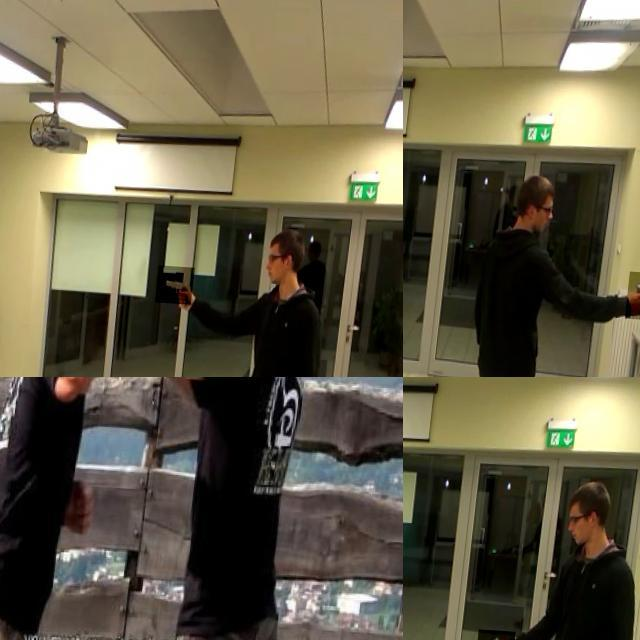-: (112, 377, 200, 439)
gun-knife-thesis - v11 Yolov5 augmented: (162, 262, 202, 301), (484, 623, 525, 640)
